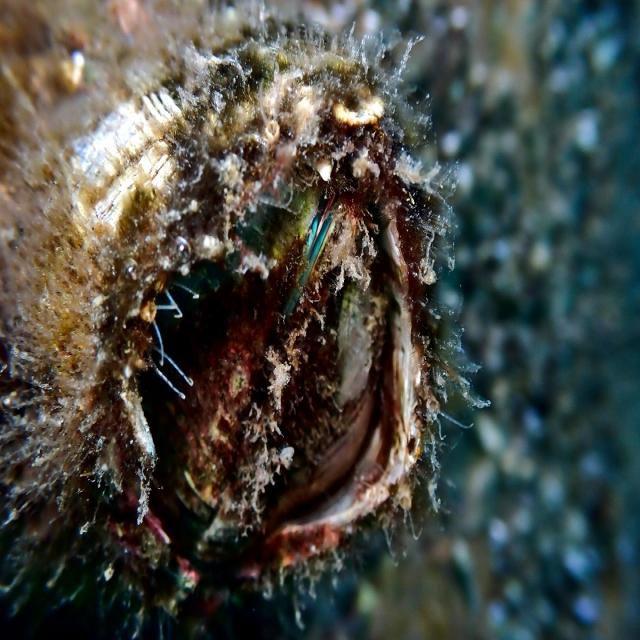barnacles: (21, 10, 486, 620)
